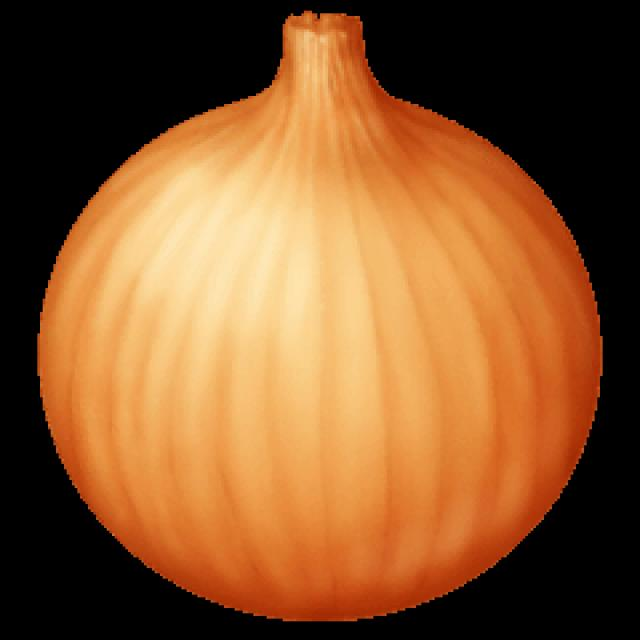onion: (35, 65, 608, 625)
